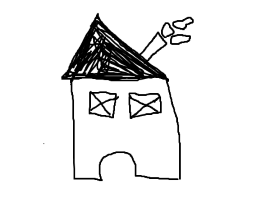closed_window: (126, 89, 164, 121), (86, 89, 122, 121)
door: (95, 145, 140, 184)
shaded_roof: (61, 12, 169, 86)
smoking_chimney: (140, 12, 198, 63)
wall: (66, 73, 186, 183)
